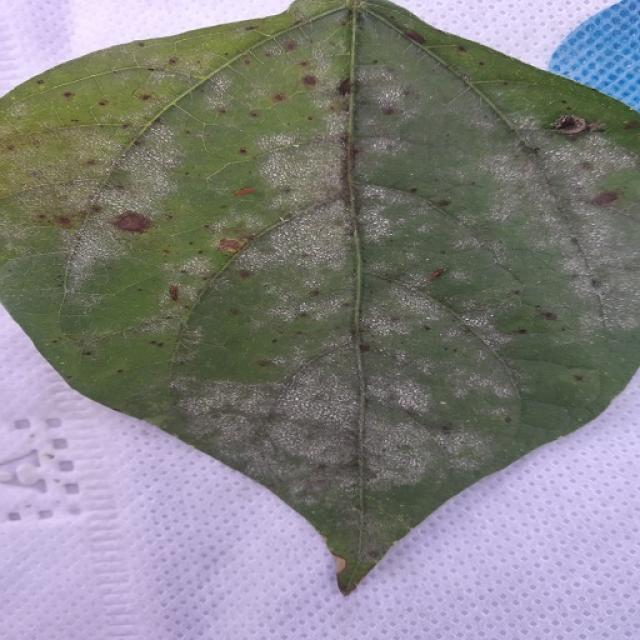Blackgram: (0, 0, 639, 592)
Powdery_Mildew: (63, 128, 220, 316), (189, 200, 354, 346), (269, 349, 426, 488), (207, 37, 343, 132), (458, 151, 579, 256), (5, 135, 125, 226), (247, 137, 347, 216), (546, 132, 638, 196), (349, 65, 417, 130), (117, 125, 186, 182), (139, 70, 200, 108), (202, 71, 239, 112), (361, 134, 412, 158)
